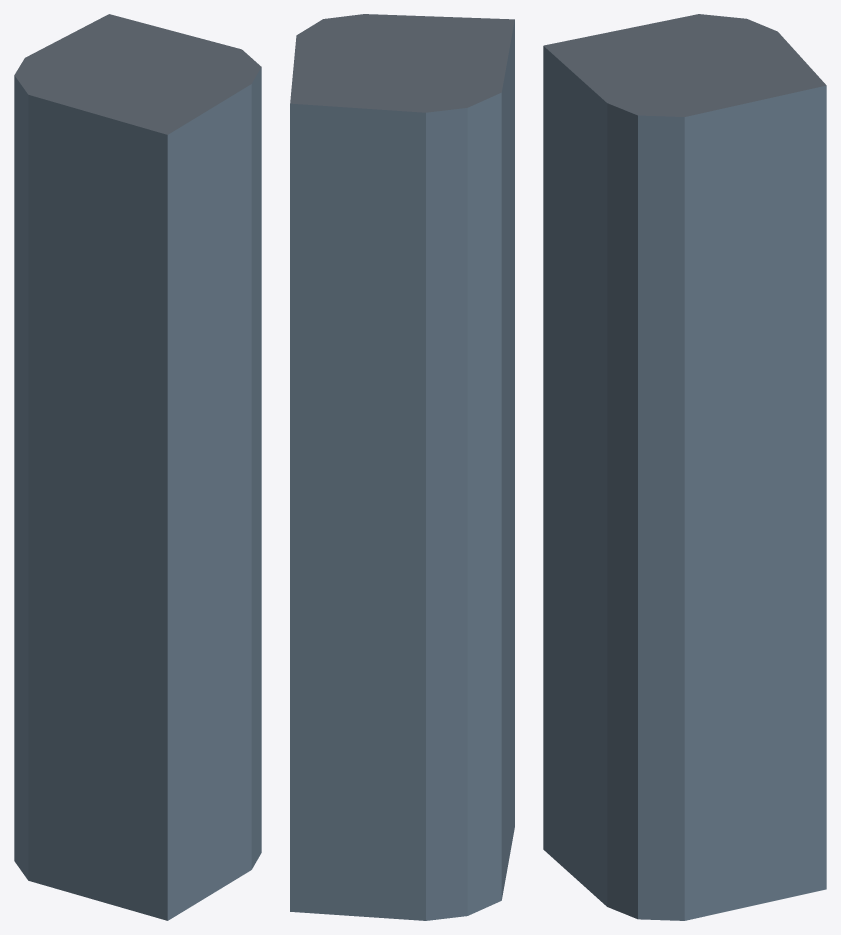
3 views of the same model, side by side, from view 1: azimuth 30°, elevation 25°; view 2: azimuth 150°, elevation 25°; view 3: azimuth 270°, elevation 25° (orthographic). The views are drawn at different scales.
Visible parts, largest first — view 1: HP-w526195124; view 2: HP-w526195124; view 3: HP-w526195124.
Boxes of the visible parts, box(x1,y1,x2,y2) form: HP-w526195124: box(14, 14, 261, 920); HP-w526195124: box(290, 14, 514, 920); HP-w526195124: box(543, 14, 826, 920).
Size of the model in its own units: 41.28 by 150 by 47.94.
